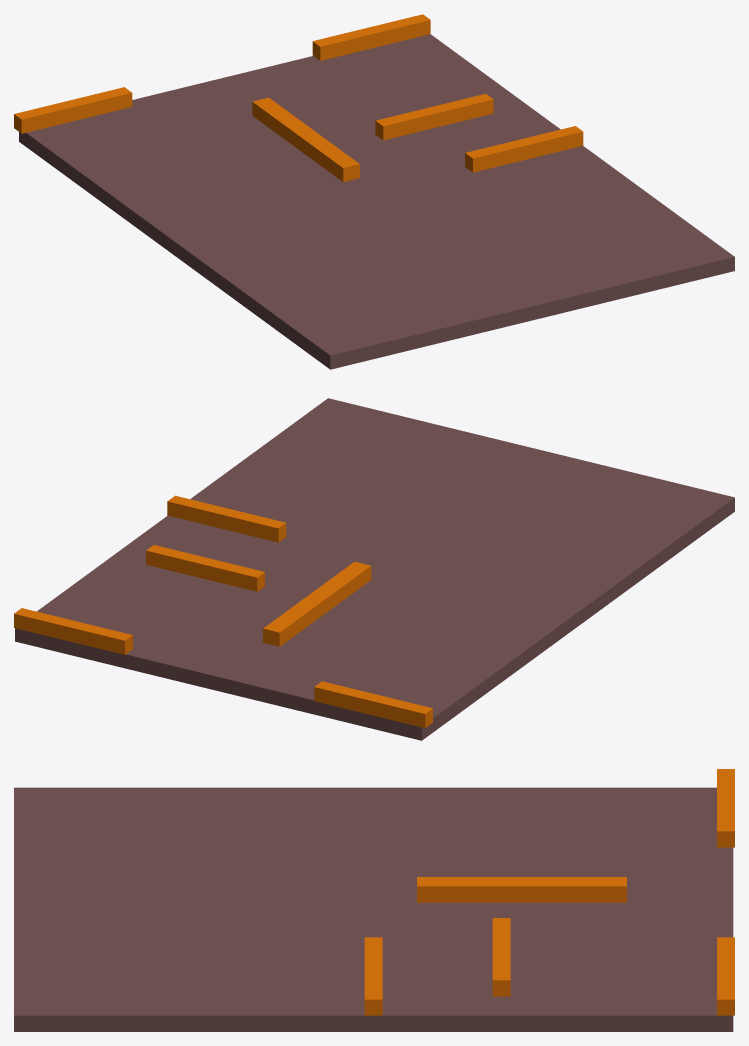
3 renders of one model, top to bottom at view 1: azimuth 30°, elevation 25°; view 2: azimuth 150°, elevation 25°; view 3: azimuth 270°, elevation 25°, orthographic. The views are drawn at different scales.
Visible parts, largest first — view 1: Ground, Cube__4_, Cube__1_, Cube__3_, Cube, Cube__2_; view 2: Ground, Cube__4_, Cube, Cube__3_, Cube__1_, Cube__2_; view 3: Ground, Cube__4_, Cube, Cube__1_, Cube__2_, Cube__3_.
Boxes of the visible parts, x1,y1,x2,y2 form: Ground: (19, 34, 734, 369); Cube__4_: (252, 97, 359, 182); Cube__1_: (375, 93, 493, 140); Cube__3_: (14, 87, 132, 133); Cube: (465, 126, 583, 172); Cube__2_: (312, 14, 430, 60); Ground: (15, 398, 734, 740); Cube__4_: (263, 561, 371, 646); Cube: (167, 495, 286, 542); Cube__3_: (314, 681, 432, 727); Cube__1_: (146, 545, 264, 591); Cube__2_: (14, 608, 132, 654); Ground: (14, 787, 733, 1031); Cube__4_: (417, 877, 626, 902); Cube: (364, 937, 382, 1015); Cube__1_: (492, 918, 510, 996); Cube__2_: (717, 937, 734, 1015); Cube__3_: (717, 769, 734, 847).
Size of the model in its own units: 3033 by 200 by 4010.
